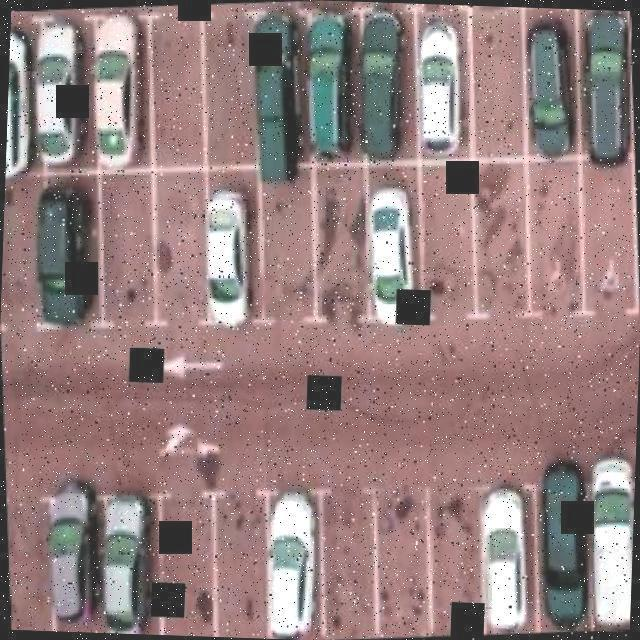space-empty: (200, 16, 262, 158), (97, 184, 157, 307), (471, 15, 520, 149), (224, 513, 276, 636), (159, 512, 212, 631), (473, 170, 526, 287), (158, 21, 205, 150), (261, 173, 310, 296), (379, 503, 428, 624), (317, 182, 363, 306), (156, 182, 198, 317), (5, 506, 48, 630), (587, 173, 634, 283), (427, 174, 471, 289), (534, 190, 581, 297), (325, 518, 369, 627), (431, 519, 473, 629), (0, 200, 35, 314)
space-occupied: (192, 167, 257, 323), (258, 480, 326, 628), (354, 7, 418, 163), (249, 8, 310, 171), (91, 5, 151, 168), (26, 170, 94, 308), (296, 4, 355, 157), (95, 488, 156, 634), (29, 30, 89, 166), (408, 7, 464, 150), (42, 505, 103, 633), (533, 464, 584, 612), (470, 488, 524, 621), (361, 191, 418, 314), (525, 14, 573, 151), (590, 465, 635, 608), (580, 25, 630, 141), (6, 50, 34, 158)
